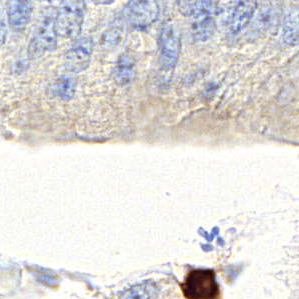Lymphocyte: (181, 267, 220, 299)
